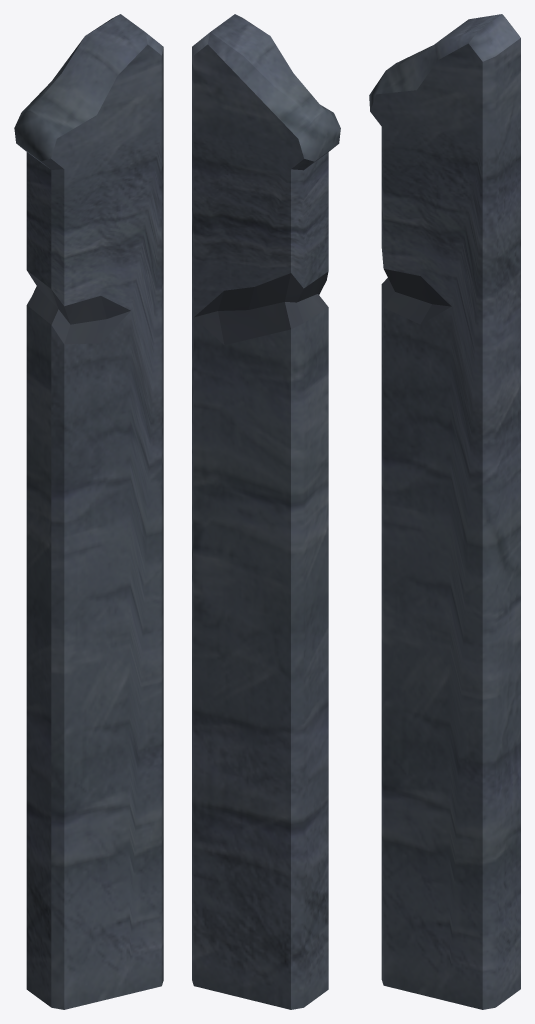
The model's file is StandColumn04.glb.
3 renders of one model, left to right at view 1: azimuth 30°, elevation 25°; view 2: azimuth 150°, elevation 25°; view 3: azimuth 330°, elevation 25°, orthographic.
Parts seen in each view (by area): view 1: StandColumn04; view 2: StandColumn04; view 3: StandColumn04.
Part boxes in pixels (x1,y1,x2,y2): StandColumn04: (14,14,163,1009); StandColumn04: (192,14,340,1009); StandColumn04: (369,14,520,1009).
Size of what is drawn, in the model's own units: 1.99 by 14.51 by 0.9887.
1 material, 1 textured.
